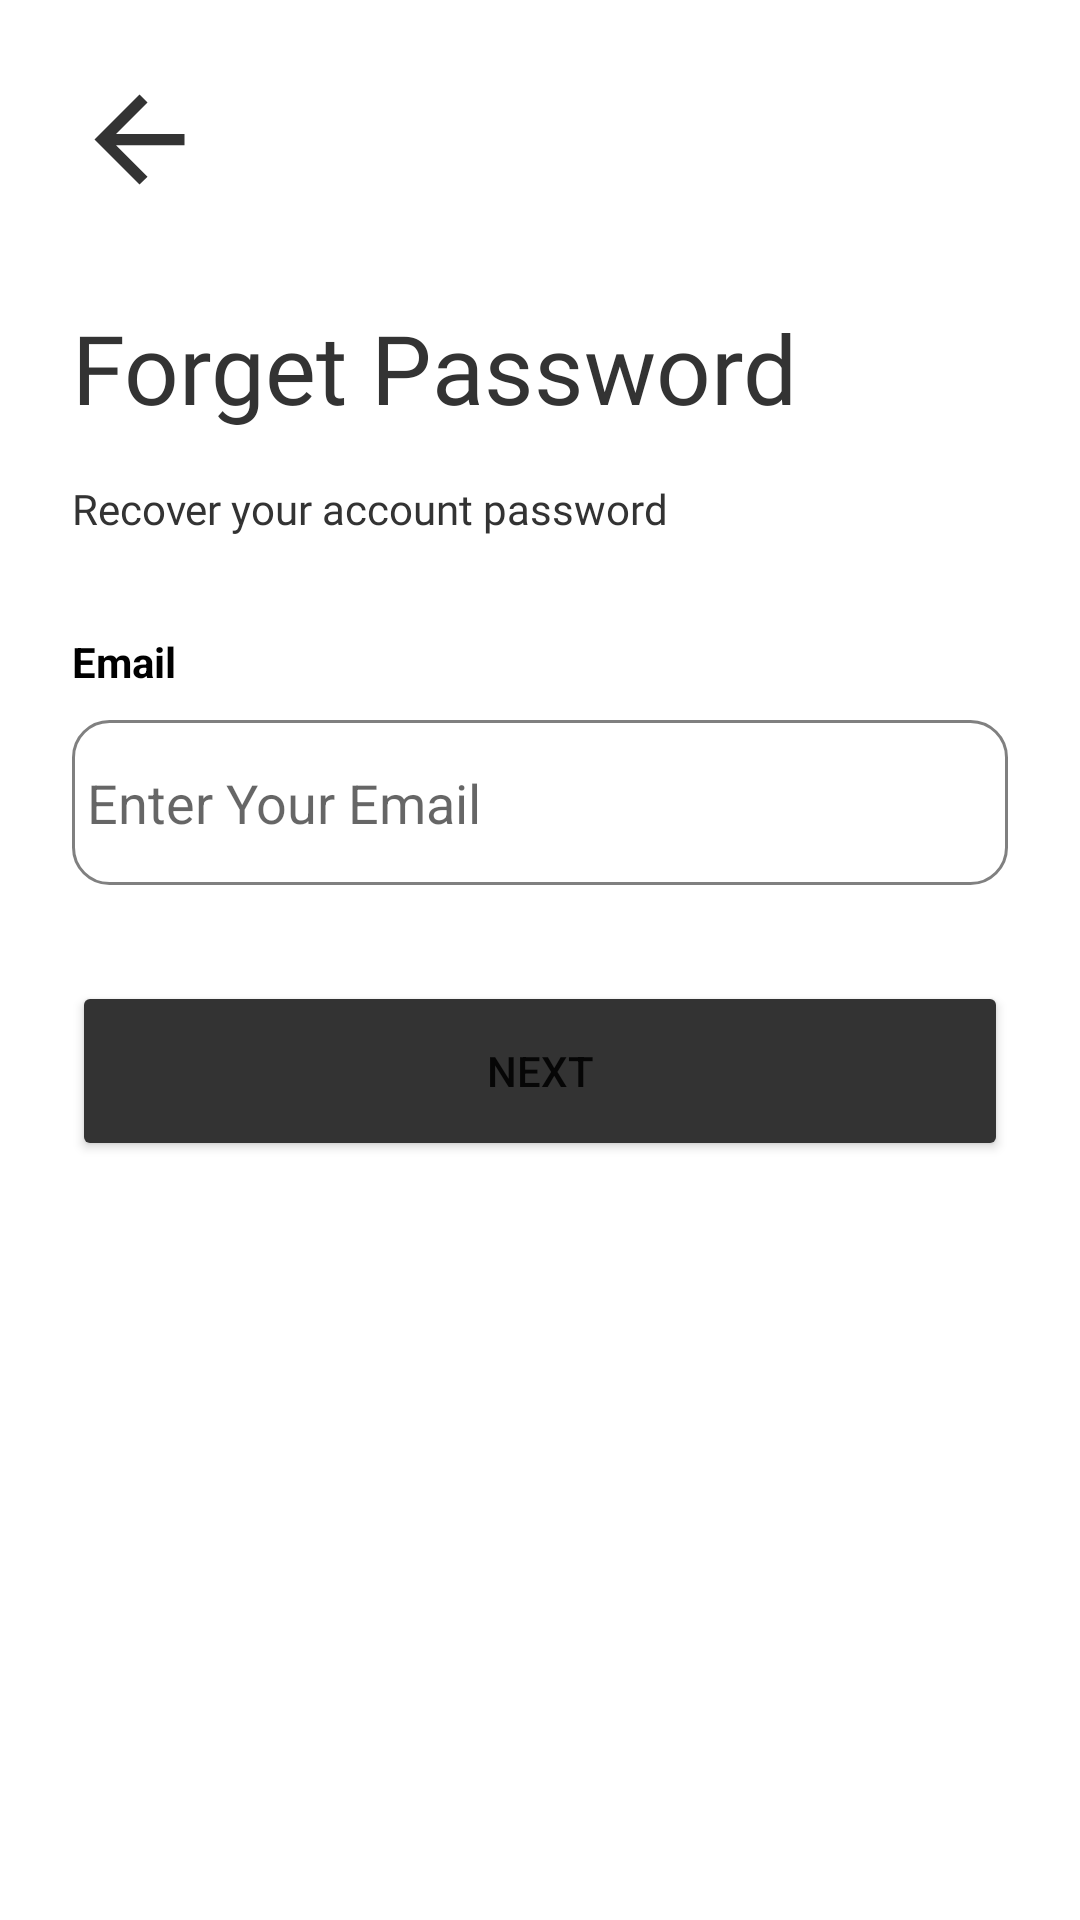

Icons on this 1080 x 1920 Android screen, each with the point to tap as [x,y]:
back arrow: [139,139]
